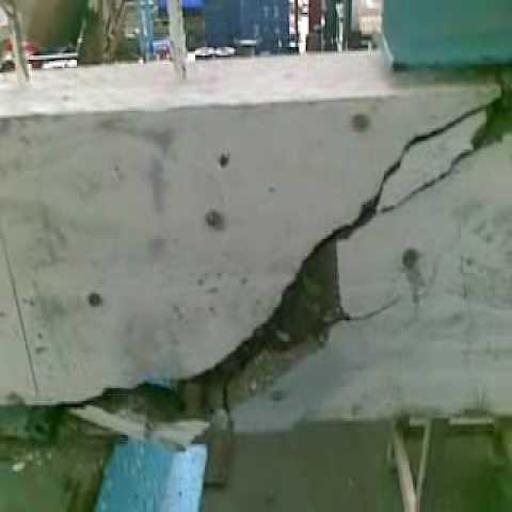spalling: (83, 233, 345, 432), (333, 91, 492, 264)
